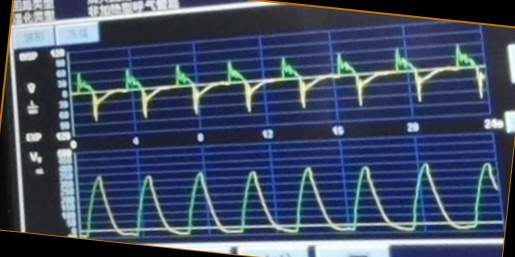Accumulation Flow: (73, 47, 487, 124)
Volume: (81, 160, 497, 238)
